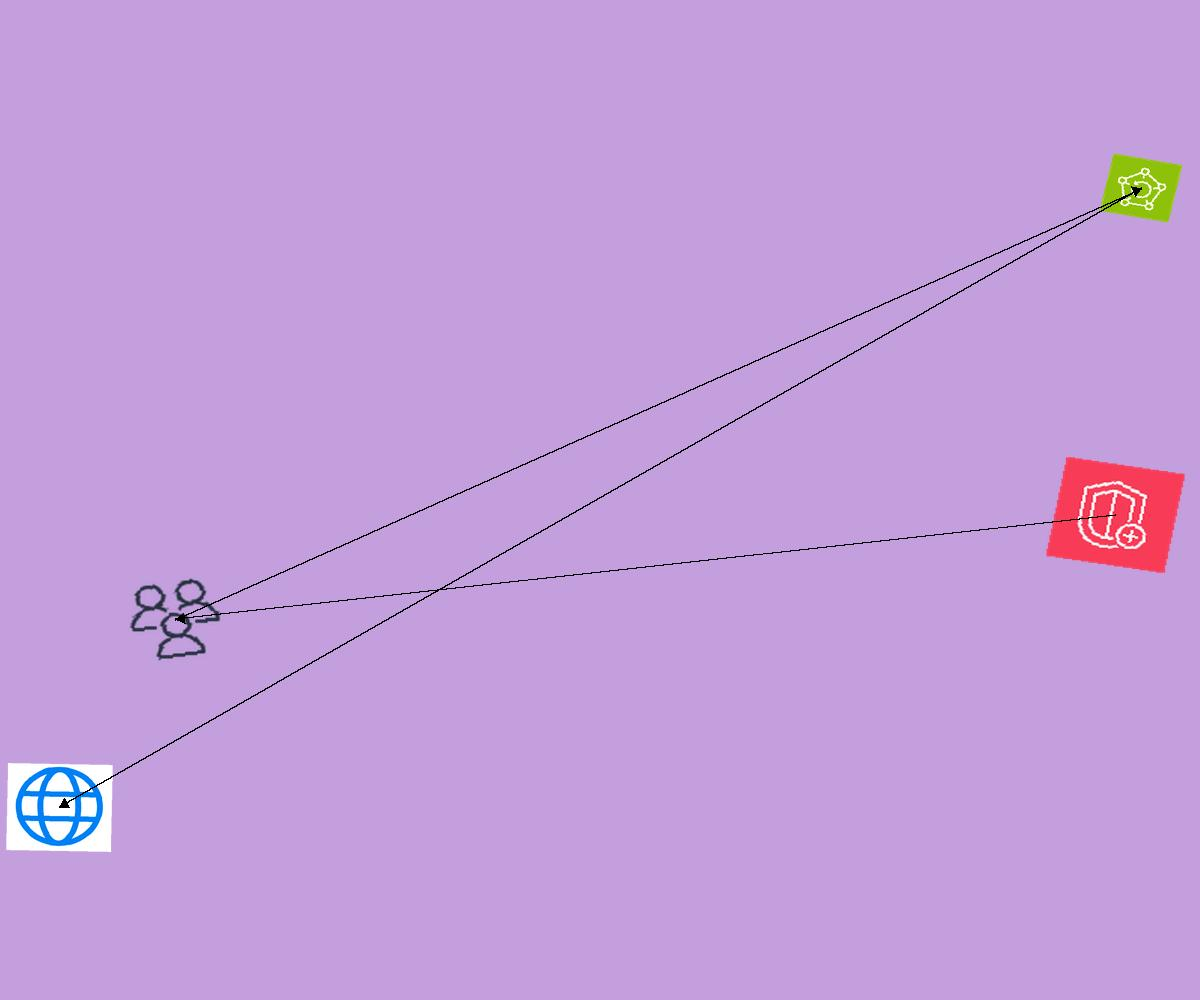AWS-Backup: (1099, 153, 1183, 223)
AWS-Res_Users: (118, 572, 232, 667)
AWS-Shield: (1045, 456, 1186, 574)
Azure_http: (6, 763, 113, 852)
